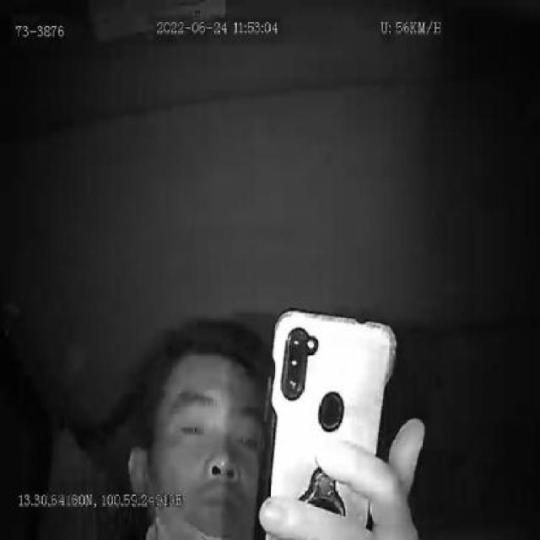phone: (262, 302, 401, 540)
